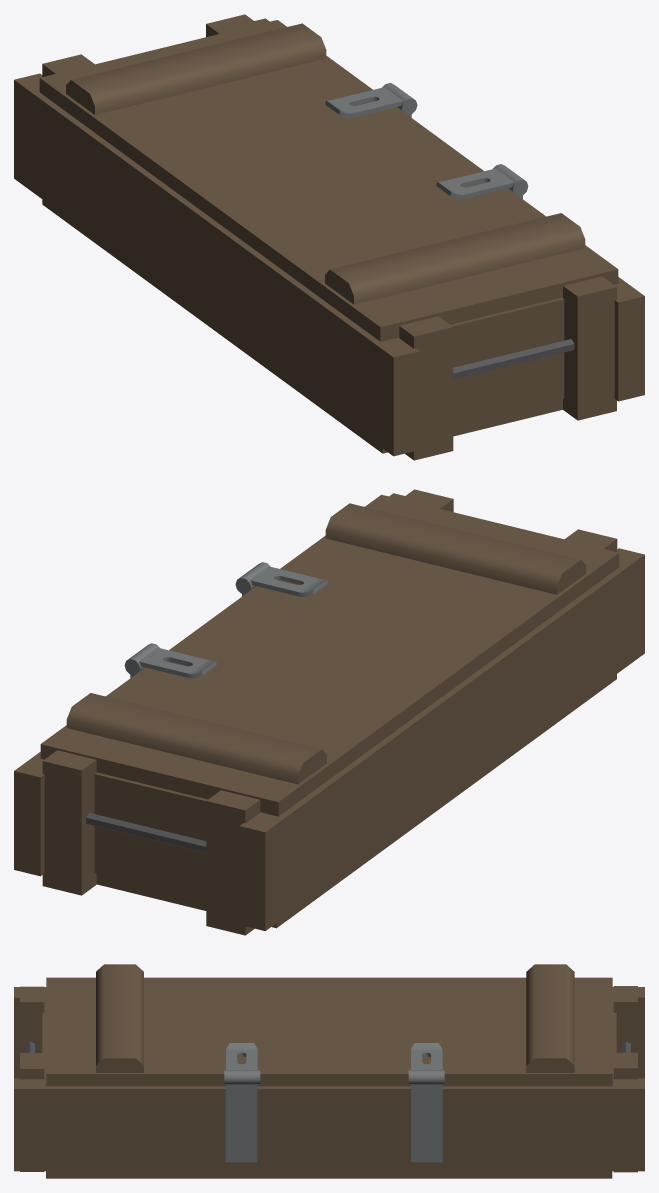
The model's file is wooden ammo crate.fbx.
3 views of the same model, one above another, from view 1: azimuth 30°, elevation 25°; view 2: azimuth 150°, elevation 25°; view 3: azimuth 270°, elevation 25° (orthographic). The views are drawn at different scales.
Parts seen in each view (by area): view 1: munition_crate; view 2: munition_crate; view 3: munition_crate.
Part boxes in pixels (box(x1,y1,x2,y2)): munition_crate: box(14, 14, 644, 460); munition_crate: box(14, 489, 644, 935); munition_crate: box(14, 964, 644, 1178).
Bounding box in the file's own units: 206 × 109 × 518.
